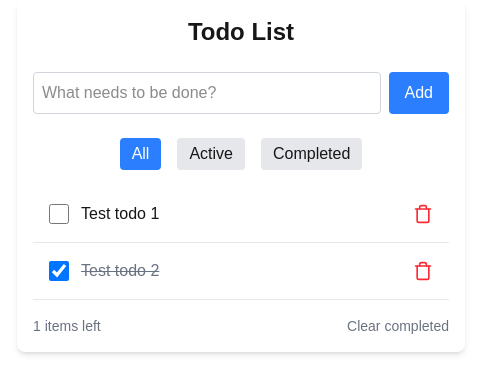
TodoList › filters todos correctly
// Test active filter
Click the button with test id "filter-active": (211, 154) [177,138,245,170]
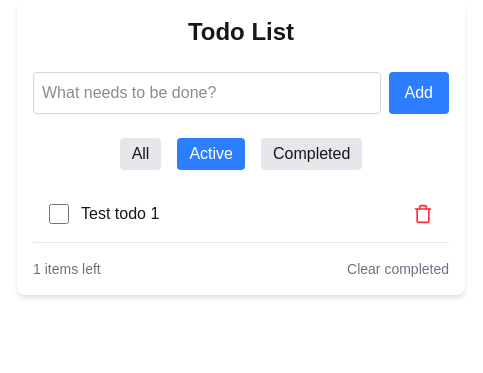
Expected: the text "Test todo 1" is shown, [81,202,159,226]
Now the text "Test todo 2" is gone
// Test completed filter
Click the button with test id "filter-completed": (312, 154) [261,138,362,170]
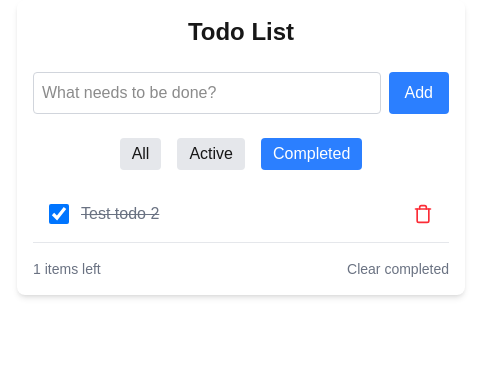
Now the text "Test todo 1" is gone
Now the text "Test todo 2" is shown, box [81,202,159,226]
// Test all filter
Click the button with test id "filter-all": (140, 154) [120,138,161,170]
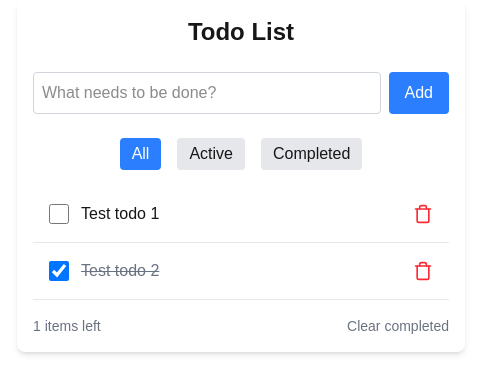
Now the text "Test todo 2" is shown, box [81,259,159,283]
Now the text "Test todo 1" is shown, box [81,202,159,226]
